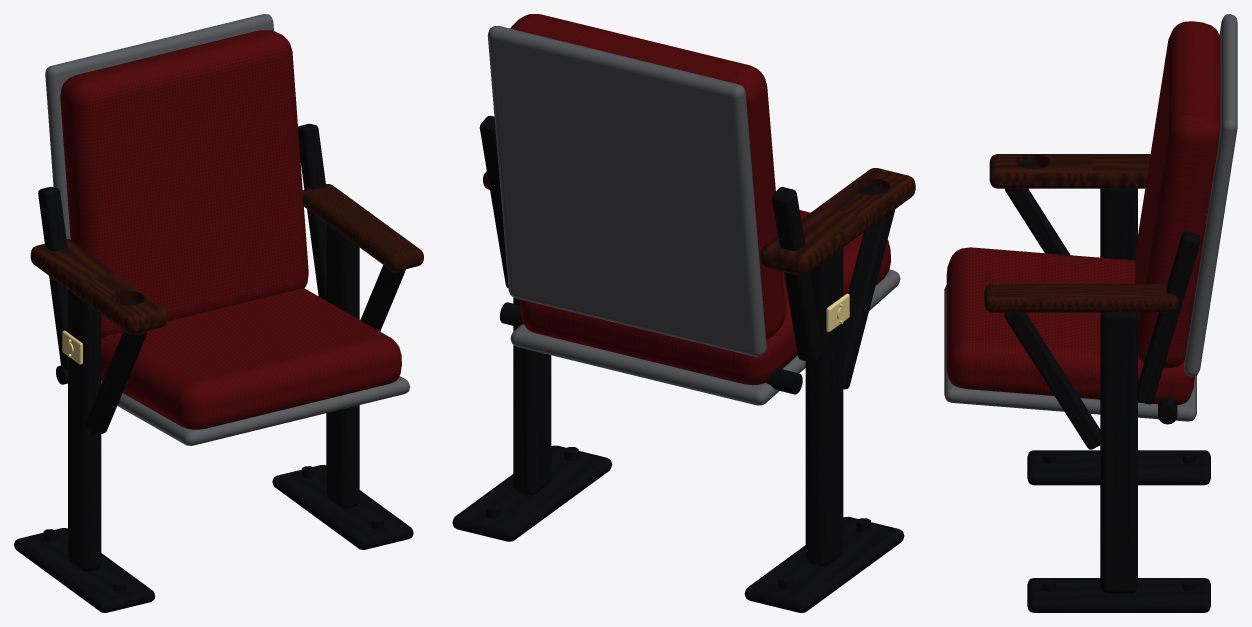
Rendered from vintage_cinema_chair.glb.
3 views of the same model, side by side, from view 1: azimuth 30°, elevation 25°; view 2: azimuth 150°, elevation 25°; view 3: azimuth 270°, elevation 25° (orthographic). The views are drawn at different scales.
Parts seen in each view (by area): view 1: backrest_cushion, seat_cushion, stanchion_upright_right, stanchion_upright_left, armrest_wood_right, backrest_shell, stanchion_base_left, stanchion_base_right, seat_undershell, armrest_wood_left, stanchion_strut_rear_left, stanchion_brace_front_right (+2 smaller); view 2: backrest_shell, backrest_cushion, stanchion_upright_right, seat_cushion, armrest_wood_right, stanchion_base_left, stanchion_base_right, seat_undershell, stanchion_upright_left, stanchion_strut_rear_right, stanchion_brace_front_right, stanchion_strut_rear_left (+1 smaller); view 3: seat_cushion, backrest_cushion, stanchion_upright_left, backrest_shell, stanchion_base_left, armrest_wood_left, armrest_wood_right, stanchion_base_right, stanchion_brace_front_left, stanchion_strut_rear_left, seat_undershell, stanchion_upright_right (+2 smaller).
Part boxes in pixels (x1,y1,x2,y2): backrest_cushion: [60, 30, 308, 337]; seat_cushion: [101, 288, 401, 429]; stanchion_upright_right: [68, 290, 101, 571]; stanchion_upright_left: [326, 224, 359, 508]; armrest_wood_right: [30, 239, 167, 334]; backrest_shell: [45, 14, 273, 239]; stanchion_base_left: [272, 465, 413, 549]; stanchion_base_right: [14, 528, 155, 612]; seat_undershell: [101, 376, 410, 445]; armrest_wood_left: [302, 184, 423, 271]; stanchion_strut_rear_left: [298, 123, 326, 300]; stanchion_brace_front_right: [85, 331, 147, 435]; backrest_shell: [487, 25, 766, 356]; backrest_cushion: [510, 14, 785, 339]; stanchion_upright_right: [805, 248, 843, 566]; seat_cushion: [520, 210, 890, 385]; armrest_wood_right: [760, 168, 915, 275]; stanchion_base_left: [452, 445, 612, 541]; stanchion_base_right: [744, 516, 904, 612]; seat_undershell: [510, 269, 900, 405]; stanchion_upright_left: [513, 297, 551, 494]; stanchion_strut_rear_right: [772, 187, 822, 362]; stanchion_brace_front_right: [843, 209, 895, 389]; stanchion_strut_rear_left: [479, 115, 508, 288]; seat_cushion: [946, 247, 1194, 404]; backrest_cushion: [1135, 21, 1220, 368]; stanchion_upright_left: [1100, 312, 1137, 593]; backrest_shell: [1184, 14, 1237, 376]; stanchion_base_left: [1027, 578, 1210, 612]; armrest_wood_left: [984, 284, 1178, 312]; armrest_wood_right: [989, 154, 1150, 188]; stanchion_base_right: [1027, 450, 1210, 485]; stanchion_brace_front_left: [1004, 312, 1101, 449]; stanchion_strut_rear_left: [1136, 231, 1200, 404]; seat_undershell: [944, 285, 1196, 421]; stanchion_upright_right: [1100, 188, 1137, 260].
Size of the model in its own units: 0.68 by 0.9624 by 0.5438.
Materials: 5 (3 with a texture image).
